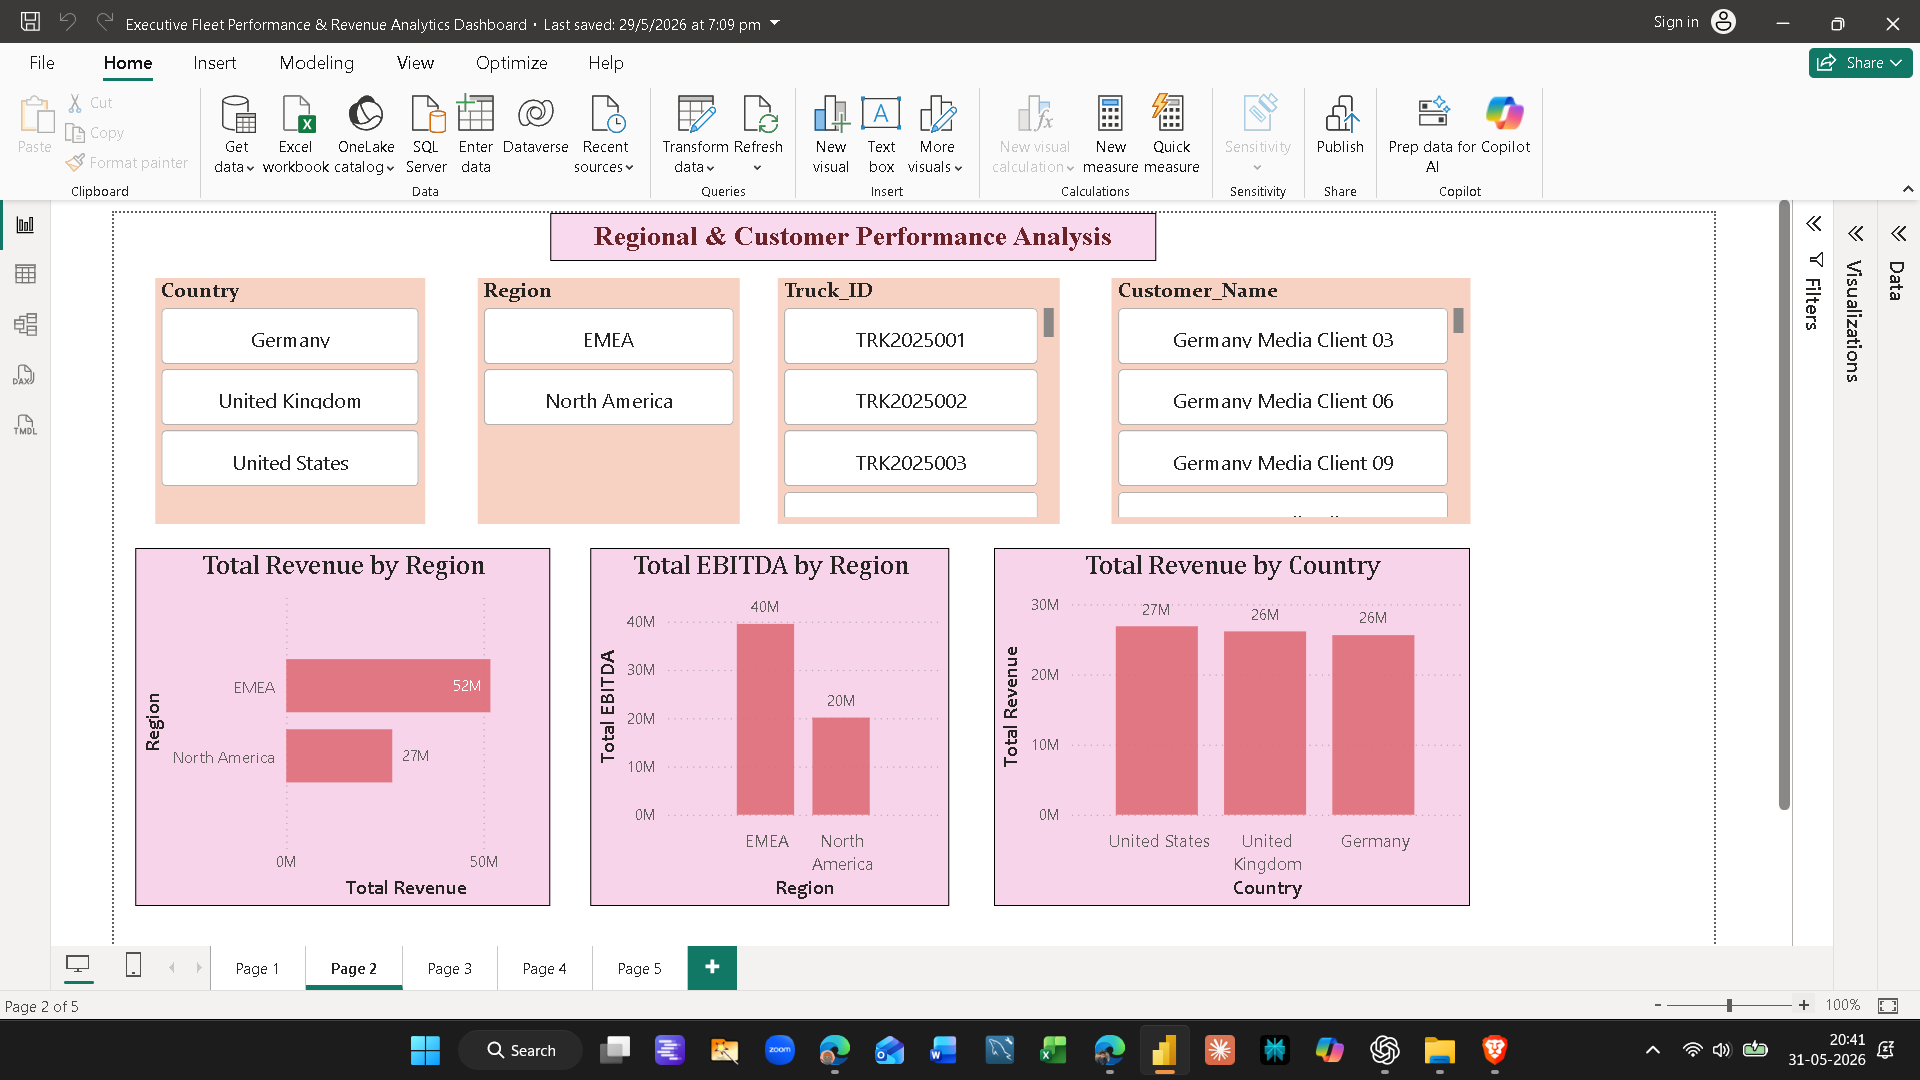

The dashboard page shown, as its layout file describes it:
{"tool":"powerbi","page":{"name":"Page 2","canvas":[1280,720],"ordinal":1},"visuals":[{"type":"clusteredBarChart","fields":{"Y":["fact_truck_day.Total Revenue"],"Category":["fact_jobs.Region"]},"box":[17,268,332,287],"z":0},{"type":"columnChart","fields":{"Y":["fact_truck_day.Total EBITDA"],"Category":["fact_jobs.Region"]},"box":[381,268,287,287],"z":1000},{"type":"advancedSlicerVisual","fields":{"Values":["fact_jobs.Country"]},"box":[33,52,216,197],"z":2000},{"type":"advancedSlicerVisual","fields":{"Values":["fact_jobs.Region"]},"box":[291,52,210,197],"z":3000},{"type":"advancedSlicerVisual","fields":{"Values":["fact_jobs.Truck_ID"]},"box":[531,52,226,197],"z":4000},{"type":"advancedSlicerVisual","fields":{"Values":["fact_jobs.Customer_Name"]},"box":[798,52,287,197],"z":5000},{"type":"columnChart","fields":{"Y":["fact_truck_day.Total Revenue"],"Category":["fact_jobs.Country"]},"box":[704,268,381,287],"z":5001},{"type":"textbox","box":[1095,52,185,197],"z":5002},{"type":"textbox","box":[349,0,485,39],"z":5003}]}

Visuals, with their boxes on the page's 1280x720 design canvas (x1, y1, x2, y2). These are canvas units, not pixel positions in the 1920x1080 screenshot, which may show the page scaled, cropped or inside an application window:
clusteredBarChart - fact_truck_day.Total Revenue x fact_jobs.Region: bbox=(17, 268, 349, 555)
columnChart - fact_truck_day.Total EBITDA x fact_jobs.Region: bbox=(381, 268, 668, 555)
advancedSlicerVisual - fact_jobs.Country: bbox=(33, 52, 249, 249)
advancedSlicerVisual - fact_jobs.Region: bbox=(291, 52, 501, 249)
advancedSlicerVisual - fact_jobs.Truck_ID: bbox=(531, 52, 757, 249)
advancedSlicerVisual - fact_jobs.Customer_Name: bbox=(798, 52, 1085, 249)
columnChart - fact_truck_day.Total Revenue x fact_jobs.Country: bbox=(704, 268, 1085, 555)
textbox: bbox=(1095, 52, 1280, 249)
textbox: bbox=(349, 0, 834, 39)
